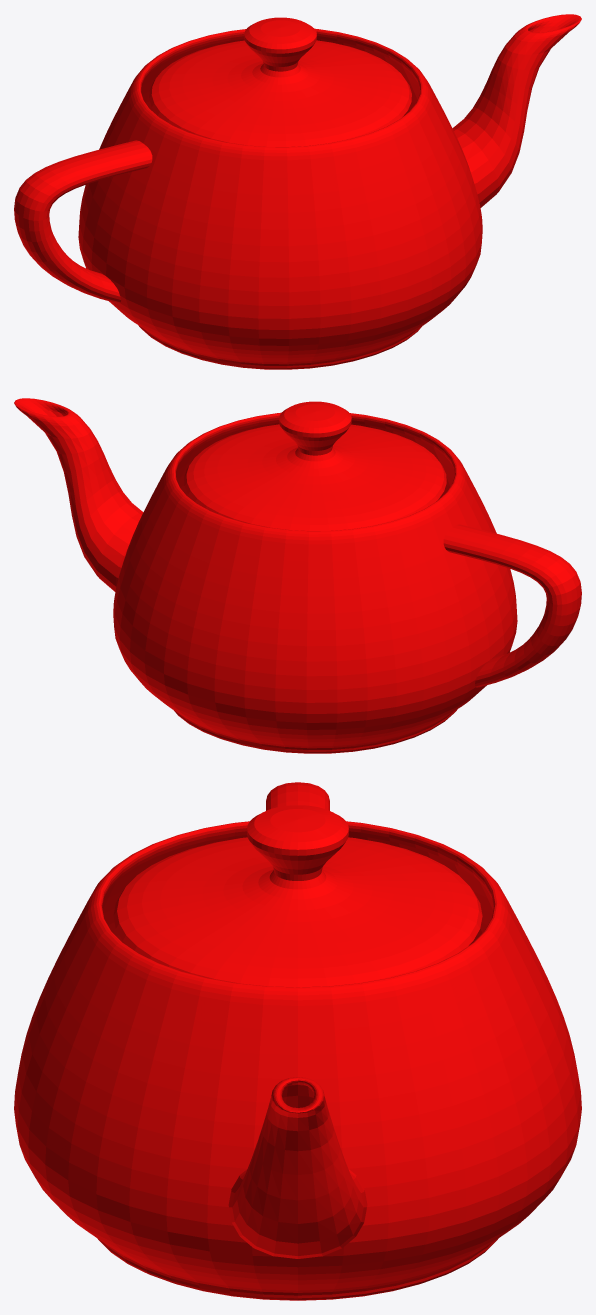
File: teapot2.obj
3 renders of one model, top to bottom at view 1: azimuth 30°, elevation 25°; view 2: azimuth 150°, elevation 25°; view 3: azimuth 270°, elevation 25°, orthographic. The views are drawn at different scales.
Visible parts, largest first — view 1: teapot; view 2: teapot; view 3: teapot.
Boxes of the visible parts, <box> form: teapot: <box>14,14,581,369</box>; teapot: <box>14,398,581,753</box>; teapot: <box>14,782,581,1300</box>.
Size of the model in its own units: 6.43 by 3.15 by 4.
